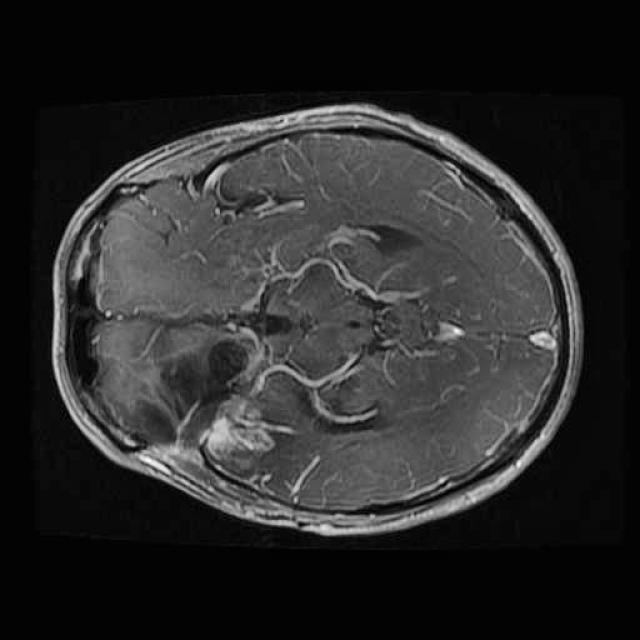Non-Tumor: (126, 322, 291, 494)
